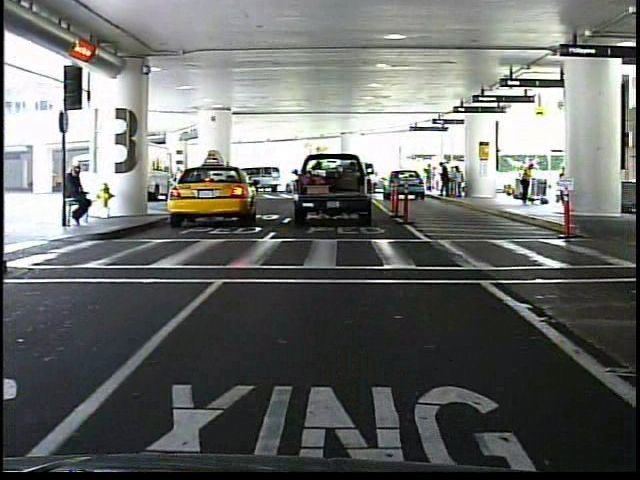person: (66, 160, 96, 231), (516, 158, 538, 209), (423, 162, 436, 196)
